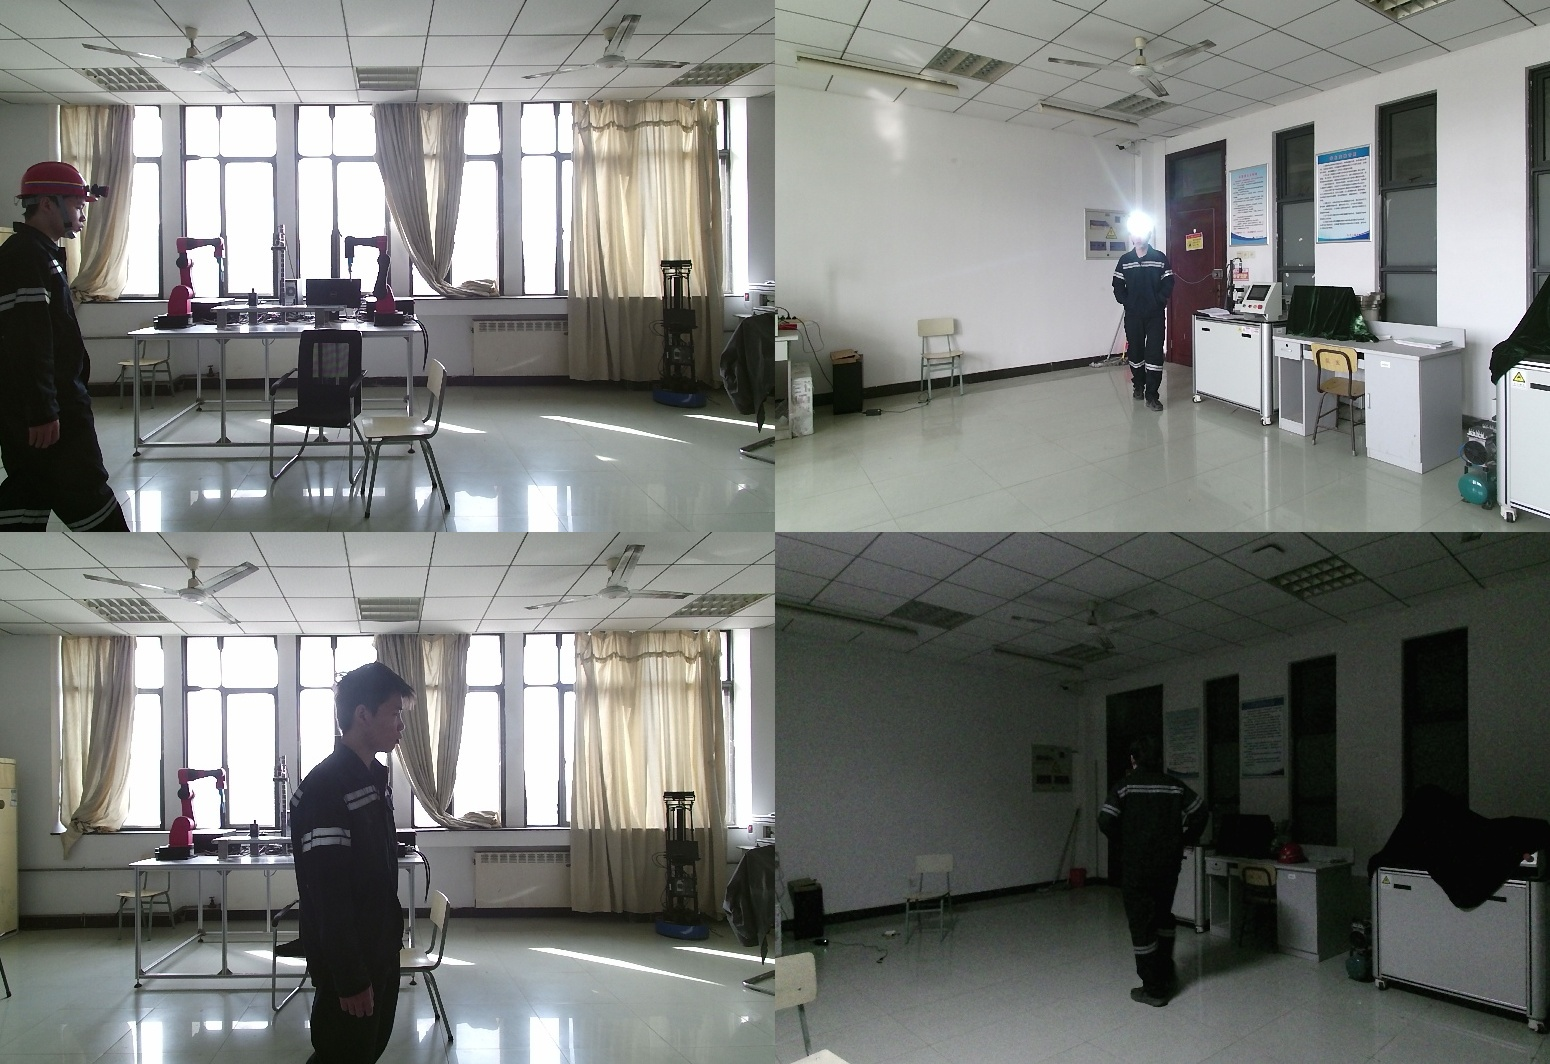person: (295, 663, 429, 1064), (1, 163, 131, 532), (1101, 737, 1227, 1004), (1115, 222, 1187, 417)
